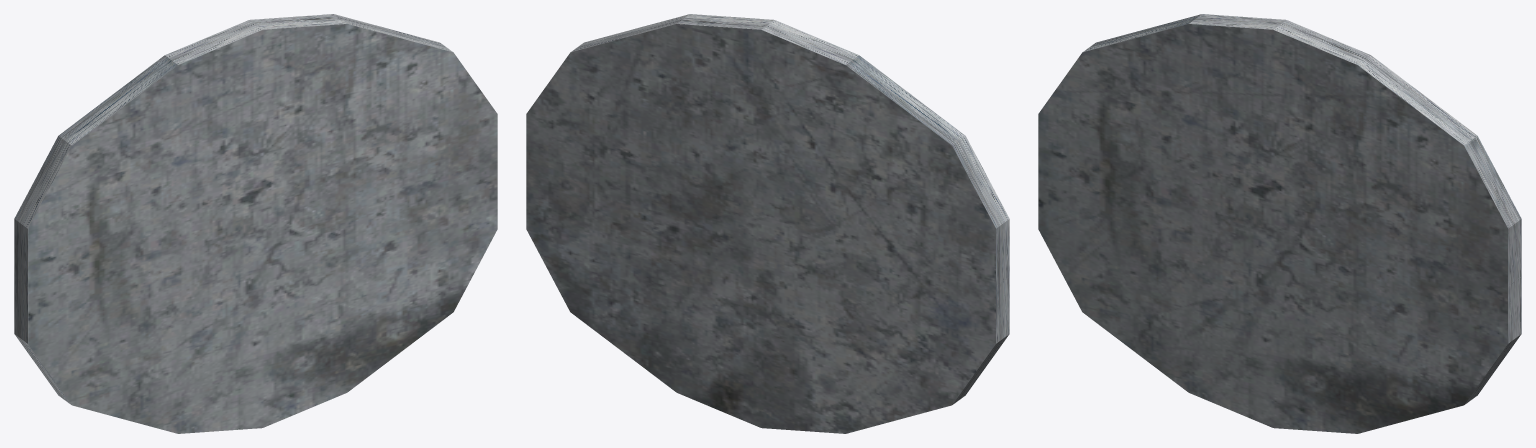
File: fuel_pump_cover_plate.obj
3 views of the same model, side by side, from view 1: azimuth 30°, elevation 25°; view 2: azimuth 150°, elevation 25°; view 3: azimuth 330°, elevation 25° (orthographic).
Visible parts, largest first — view 1: Fuel_Pump_Cover_Plate; view 2: Fuel_Pump_Cover_Plate; view 3: Fuel_Pump_Cover_Plate.
Boxes of the visible parts, <box> form: Fuel_Pump_Cover_Plate: <box>14,14,497,433</box>; Fuel_Pump_Cover_Plate: <box>526,14,1009,433</box>; Fuel_Pump_Cover_Plate: <box>1038,14,1521,433</box>.
Size of the model in its own units: 0.05 by 0.0405 by 0.0025.
